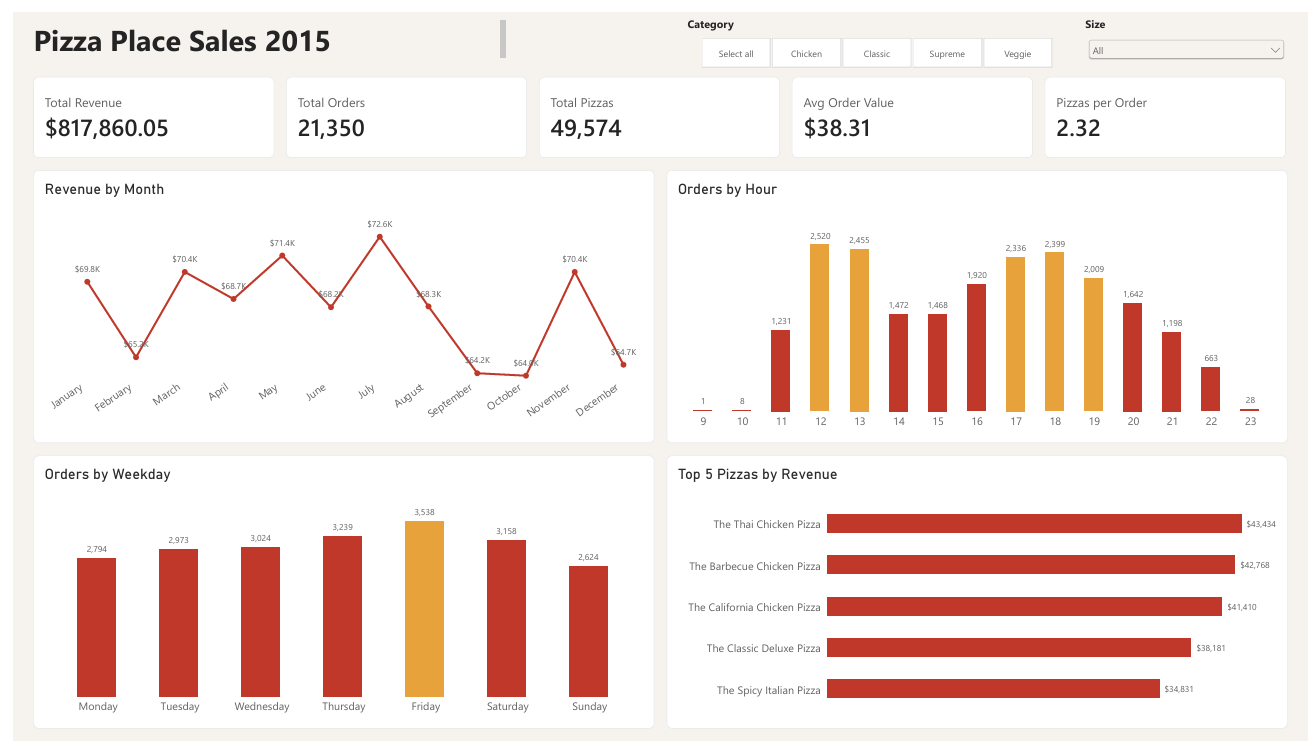

What the dashboard file says about the page in this screenshot:
{"tool":"powerbi","page":{"name":"Page 1","canvas":[1920,1080],"ordinal":0},"visuals":[{"type":"cardVisual","fields":{"Data":["MeasureGroup.Total Revenue"]},"box":[30,96,357,120],"z":0},{"type":"cardVisual","fields":{"Data":["MeasureGroup.Total Orders"]},"box":[405,96,357,120],"z":1000},{"type":"cardVisual","fields":{"Data":["MeasureGroup.Total Pizzas"]},"box":[780,96,357,120],"z":2000},{"type":"cardVisual","fields":{"Data":["MeasureGroup.Avg Order Value"]},"box":[1155,96,357,120],"z":3000},{"type":"cardVisual","fields":{"Data":["MeasureGroup.Pizza Percent Order"]},"box":[1530,96,357,120],"z":4000},{"type":"lineChart","title":"Revenue by Month","fields":{"Category":["DimDate.month_name"],"Y":["MeasureGroup.Total Revenue"]},"box":[30,234,921,405],"z":5000},{"type":"columnChart","title":"Orders by Hour","fields":{"Category":["FactSales.order_hour"],"Y":["MeasureGroup.Total Orders"]},"box":[969,234,921,405],"z":6000},{"type":"columnChart","title":"Orders by Weekday","fields":{"Category":["DimDate.weekday_name"],"Y":["MeasureGroup.Total Orders"]},"box":[30,657,921,405],"z":7000},{"type":"slicer","title":"Category","fields":{"Values":["DimPizza.category"]},"box":[1000,36,560,48],"z":8000},{"type":"slicer","fields":{"Values":["DimPizza.size"]},"box":[1590,36,300,48],"z":9000},{"type":"clusteredBarChart","title":"Top 5 Pizzas by Revenue","fields":{"Category":["DimPizza.pizza_name"],"Y":["MeasureGroup.Total Revenue"]},"box":[969,657,921,405],"z":10000},{"type":"textbox","box":[30,12,700,56],"z":11000},{"type":"textbox","box":[1000,6,200,28],"z":11001},{"type":"textbox","box":[1590,6,200,48],"z":11002}]}

Visuals, with their boxes in screenshot pixels (x1, y1, x2, y2), scaled from the page's 1920x1080 canvas onto the 1316x750 screenshot:
cardVisual - MeasureGroup.Total Revenue: (21,67,265,150)
cardVisual - MeasureGroup.Total Orders: (278,67,522,150)
cardVisual - MeasureGroup.Total Pizzas: (535,67,779,150)
cardVisual - MeasureGroup.Avg Order Value: (792,67,1036,150)
cardVisual - MeasureGroup.Pizza Percent Order: (1049,67,1293,150)
"Revenue by Month" lineChart: (21,162,652,444)
"Orders by Hour" columnChart: (664,162,1295,444)
"Orders by Weekday" columnChart: (21,456,652,738)
"Category" slicer: (685,25,1069,58)
slicer - DimPizza.size: (1090,25,1295,58)
"Top 5 Pizzas by Revenue" clusteredBarChart: (664,456,1295,738)
textbox: (21,8,500,47)
textbox: (685,4,822,24)
textbox: (1090,4,1227,38)
